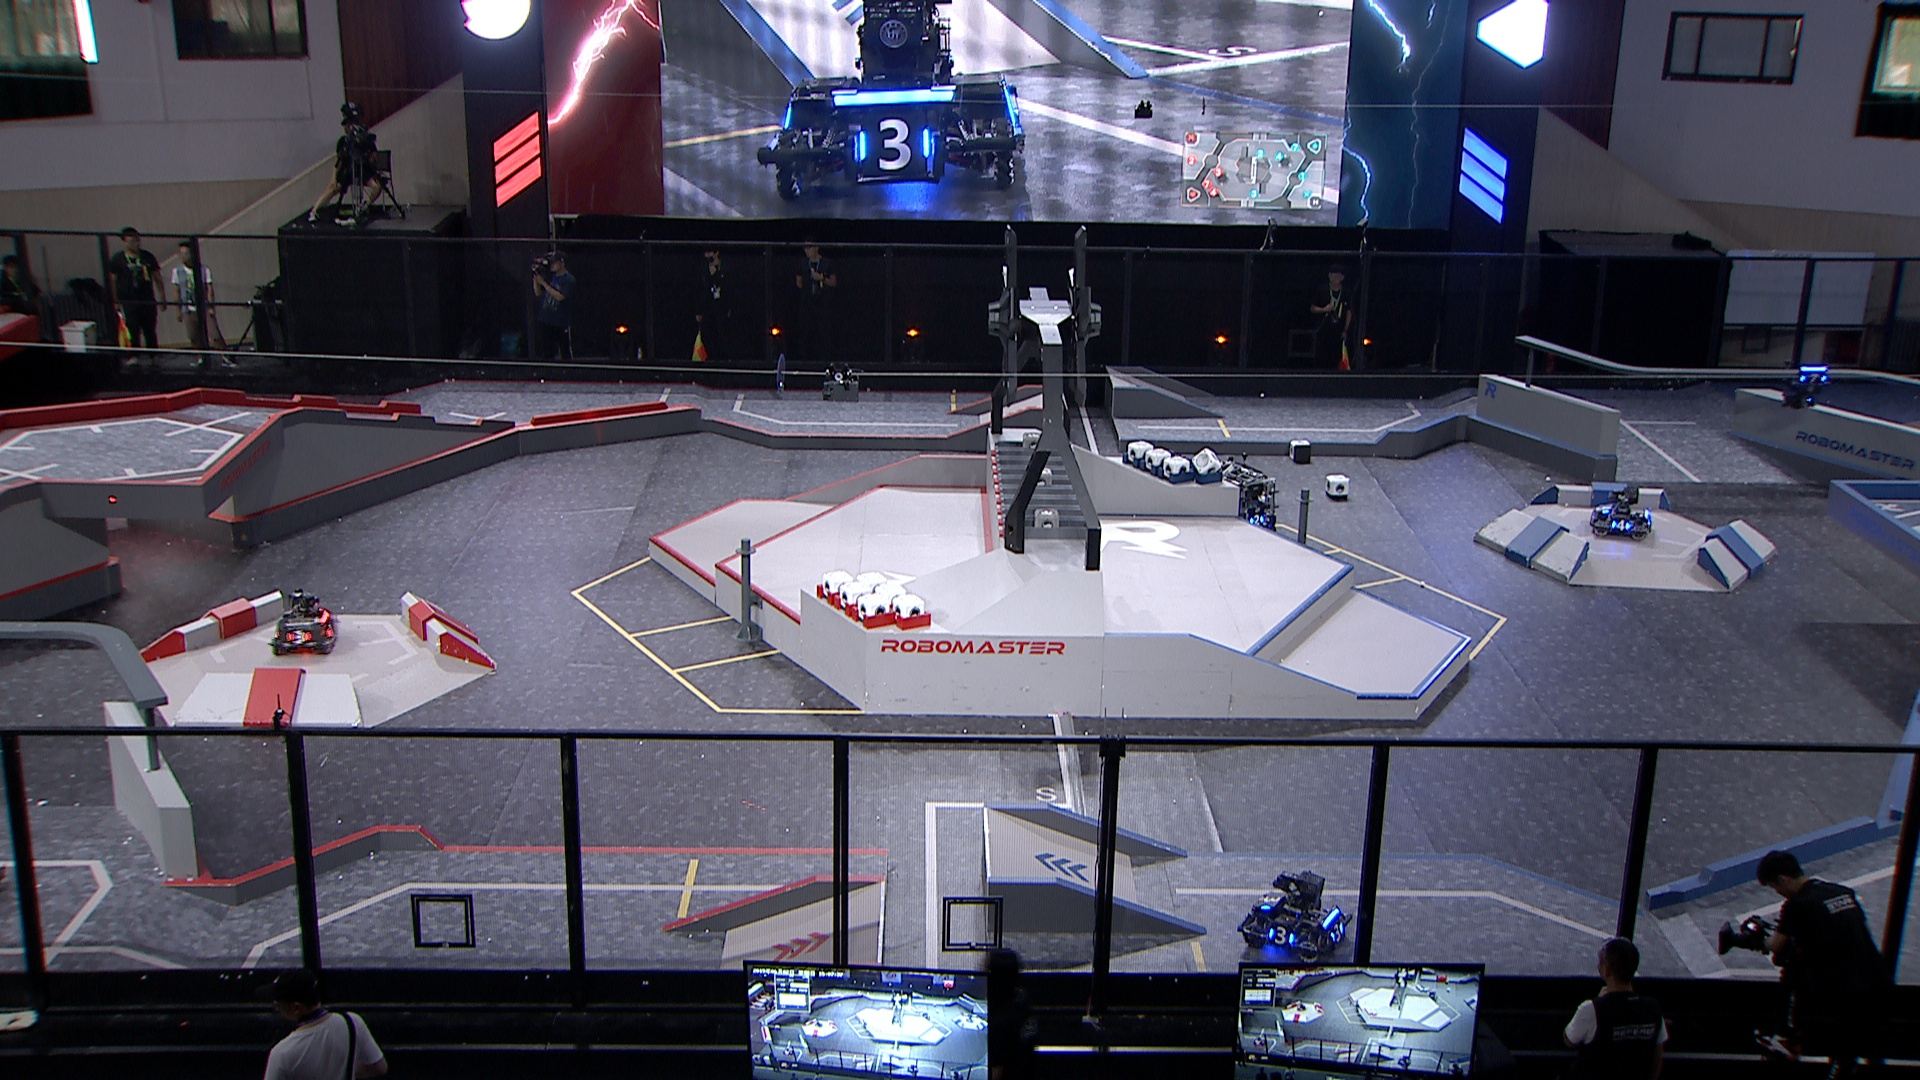armor: (1265, 924, 1298, 945), (1259, 893, 1283, 913), (1329, 920, 1346, 945), (286, 628, 310, 645), (1797, 372, 1826, 384), (1607, 518, 1633, 531), (1247, 513, 1266, 526), (324, 621, 335, 641)
car: (1234, 868, 1353, 965), (1197, 458, 1278, 538), (266, 588, 339, 657), (1590, 484, 1654, 542)
ignore: (757, 0, 1025, 200)
watcher: (1780, 360, 1830, 411)
